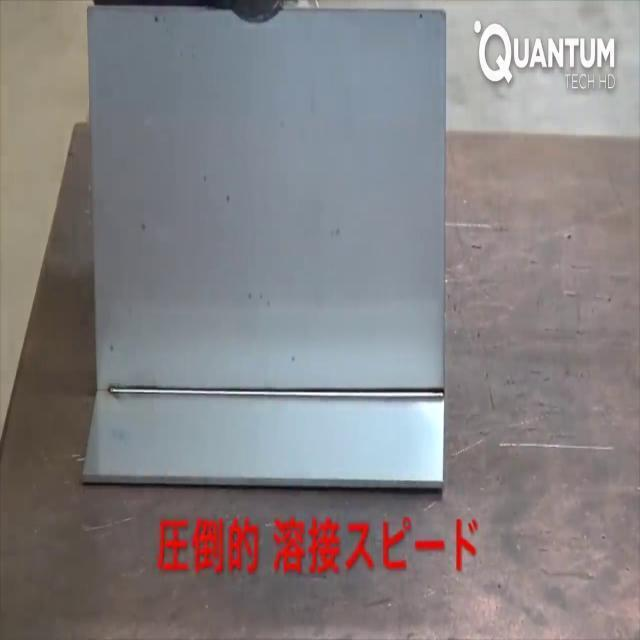Good Welding: (106, 380, 451, 412)
